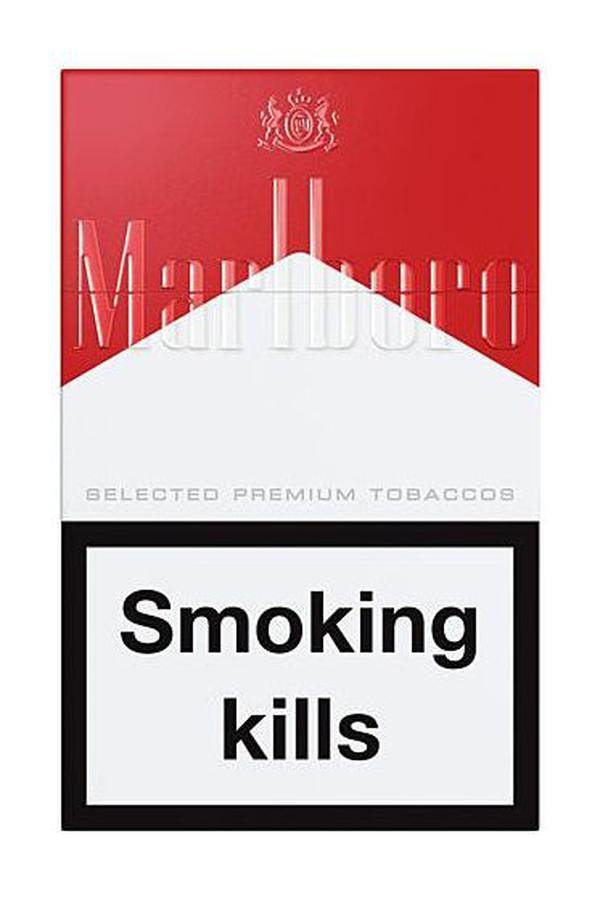marlboro_red: (61, 73, 539, 831)
